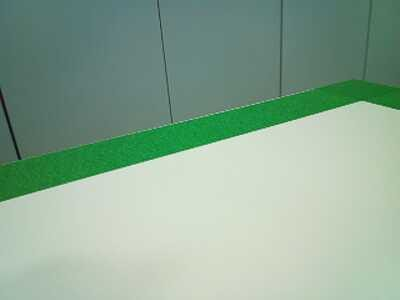linea_cerca: (1, 79, 400, 203)
